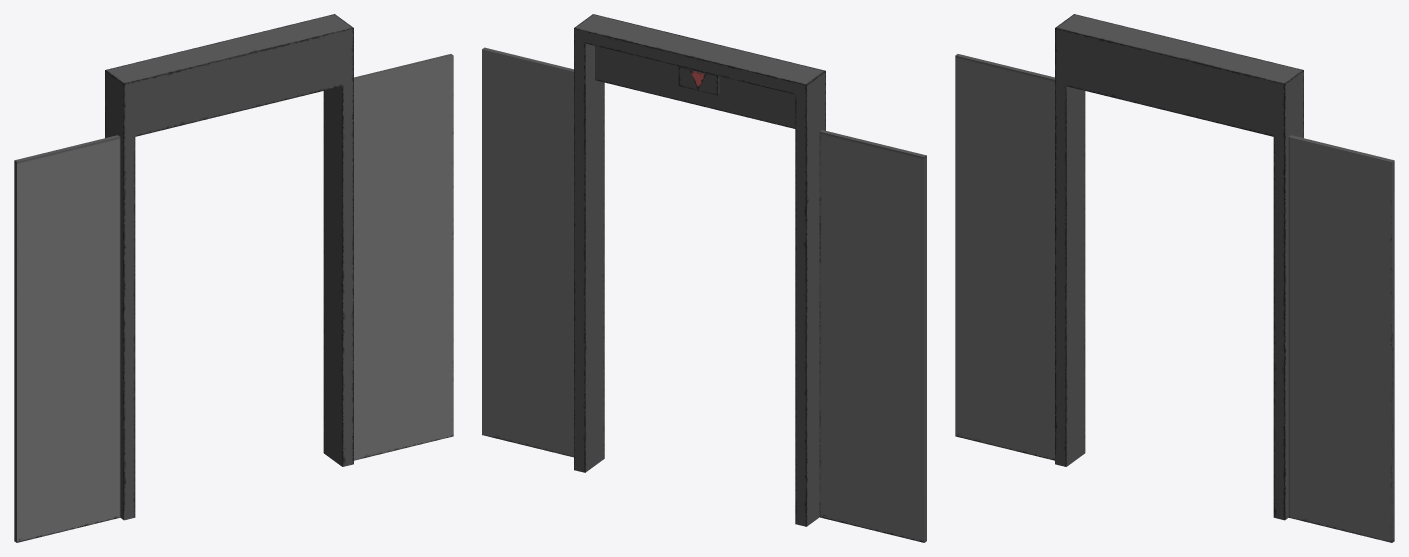
Rendered from SM_Elevator_.fbx.
3 renders of one model, left to right at view 1: azimuth 30°, elevation 25°; view 2: azimuth 150°, elevation 25°; view 3: azimuth 330°, elevation 25°, orthographic.
Visible parts, largest first — view 1: SM_Floor_SideWall.001; view 2: SM_Floor_SideWall.001; view 3: SM_Floor_SideWall.001.
Part boxes in pixels (x1,y1,x2,y2): SM_Floor_SideWall.001: (14,14,453,542); SM_Floor_SideWall.001: (482,14,926,542); SM_Floor_SideWall.001: (955,14,1394,542).
Size of the model in its own units: 293 by 280 by 22.12.
